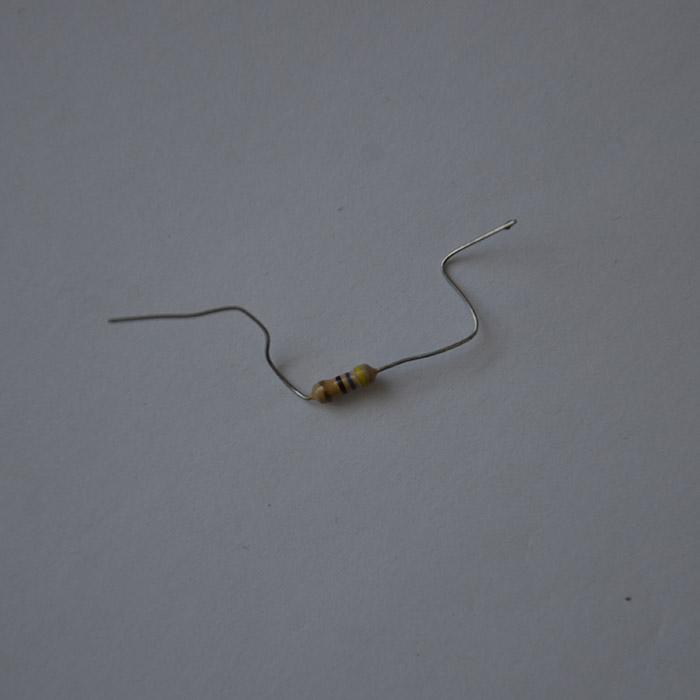resistor: (296, 308, 335, 378)
